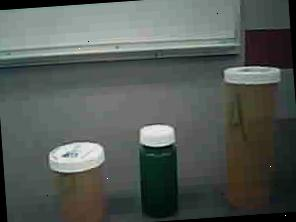Bottle A: (205, 56, 296, 217)
Bottle B: (44, 135, 119, 222)
Bottle C: (131, 120, 189, 222)
